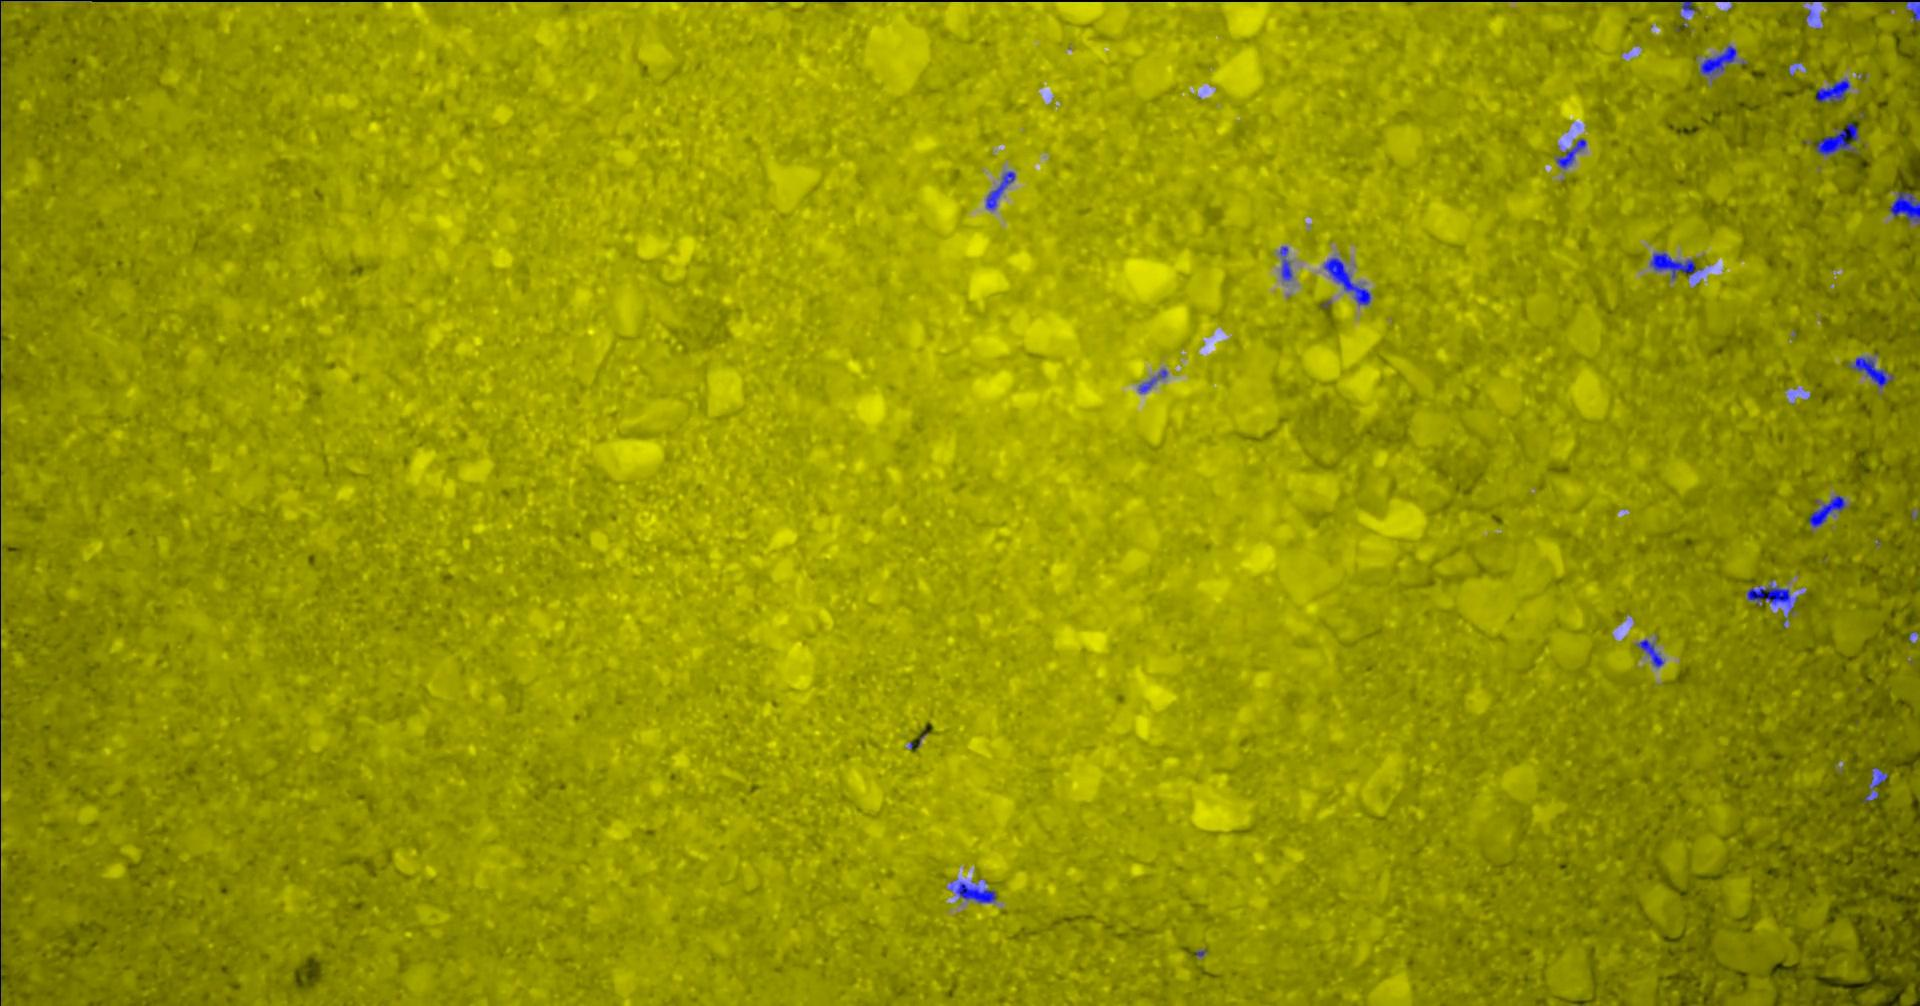ant: (1324, 257, 1371, 304), (1651, 251, 1703, 279), (1850, 356, 1895, 386), (1749, 584, 1797, 612), (1817, 123, 1860, 154), (1702, 44, 1738, 77), (1810, 495, 1848, 527), (987, 171, 1016, 210), (1890, 191, 1920, 222), (951, 882, 997, 902), (1557, 138, 1587, 168), (1817, 77, 1851, 102), (1865, 767, 1890, 801), (1638, 639, 1665, 667), (1140, 370, 1170, 392), (1281, 246, 1294, 279), (1909, 0, 1920, 22), (1683, 0, 1697, 11)
